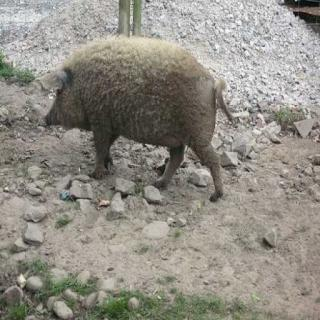Pig: (34, 13, 240, 203)
